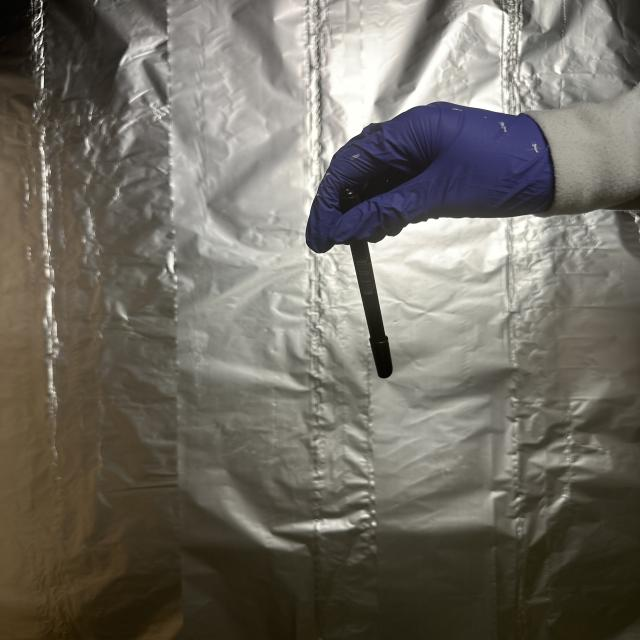gloves_contaminated: (306, 102, 554, 251)
